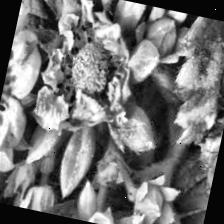Blossom Blight: (48, 17, 134, 124)
